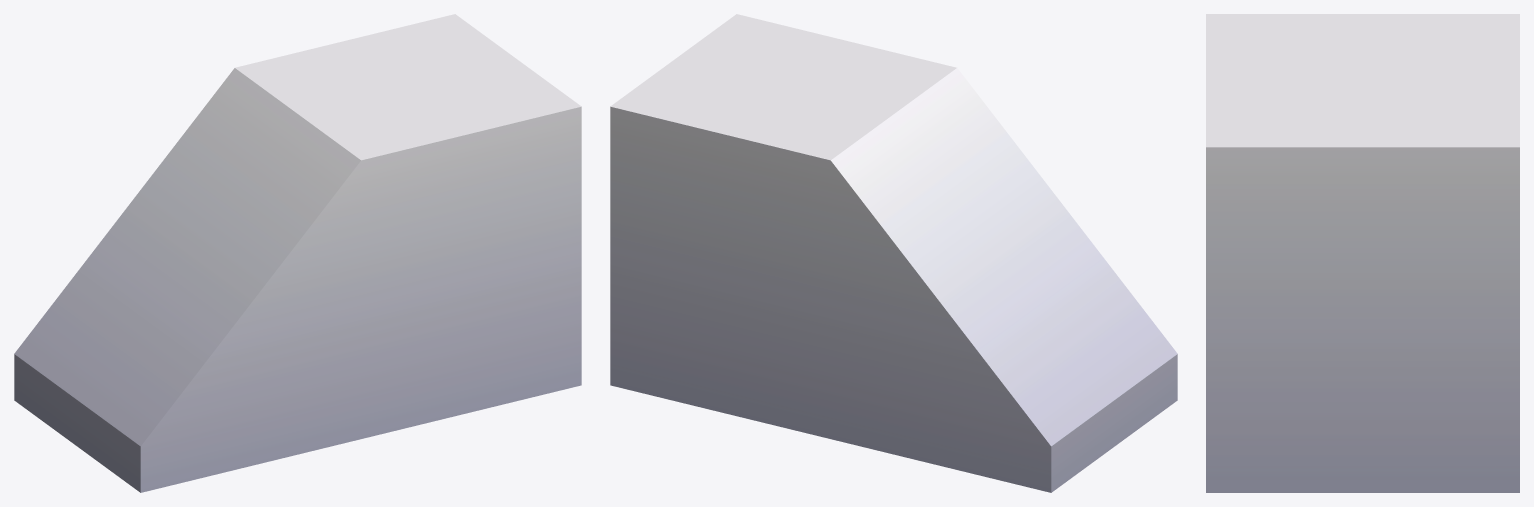
File: kenney-brick-none-lq-brick-slope-1-x-2.glb
The picture shows the model from 3 angles, left to right: view 1: azimuth 30°, elevation 25°; view 2: azimuth 150°, elevation 25°; view 3: azimuth 270°, elevation 25°; orthographic projection. The views are drawn at different scales.
Visible parts, largest first — view 1: none-lq-brick-slope-1x2; view 2: none-lq-brick-slope-1x2; view 3: none-lq-brick-slope-1x2.
Boxes of the visible parts, x1,y1,x2,y2 form: none-lq-brick-slope-1x2: (14,14,581,492); none-lq-brick-slope-1x2: (610,14,1177,492); none-lq-brick-slope-1x2: (1206,14,1519,492).
Size of the model in its own units: 0.159 by 0.096 by 0.079.
Materials: 1 (1 with a texture image).
